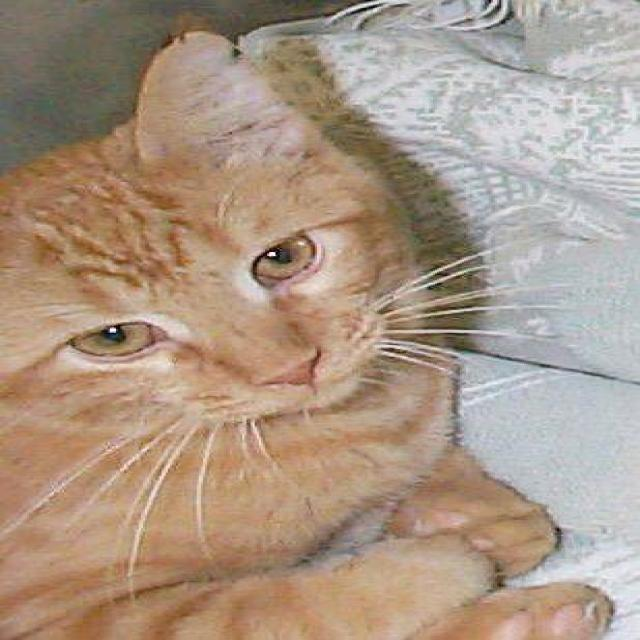cat: (0, 24, 615, 639)
